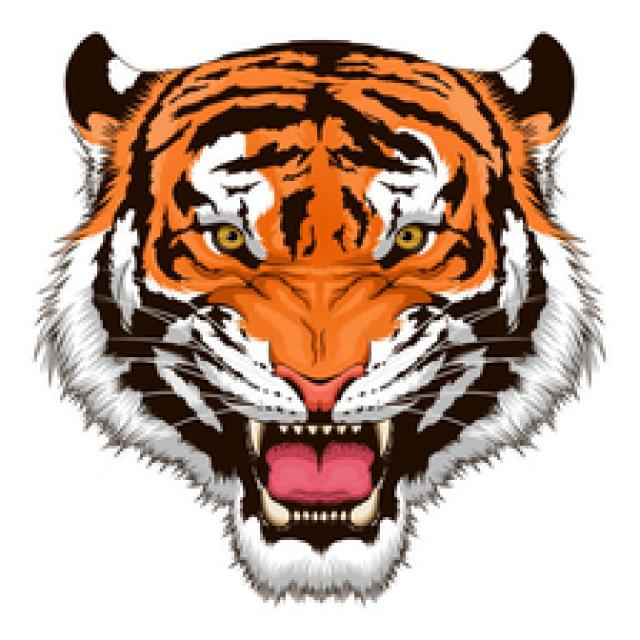tiger: (28, 27, 606, 599)
